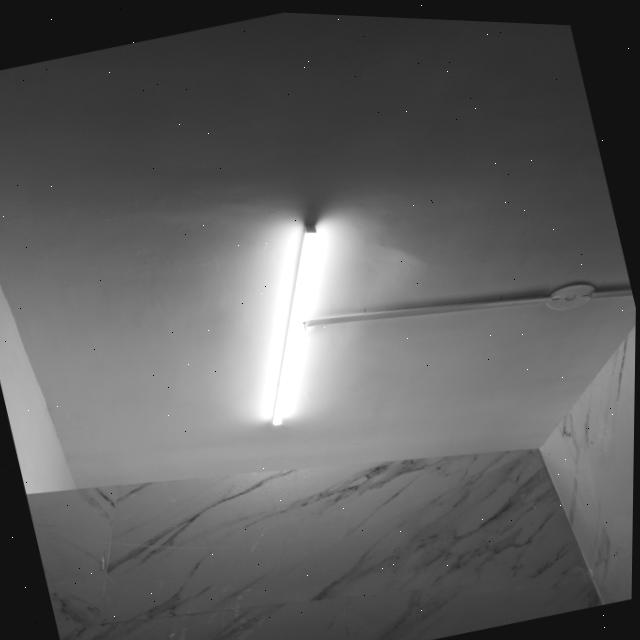light_on: (218, 206, 375, 433)
